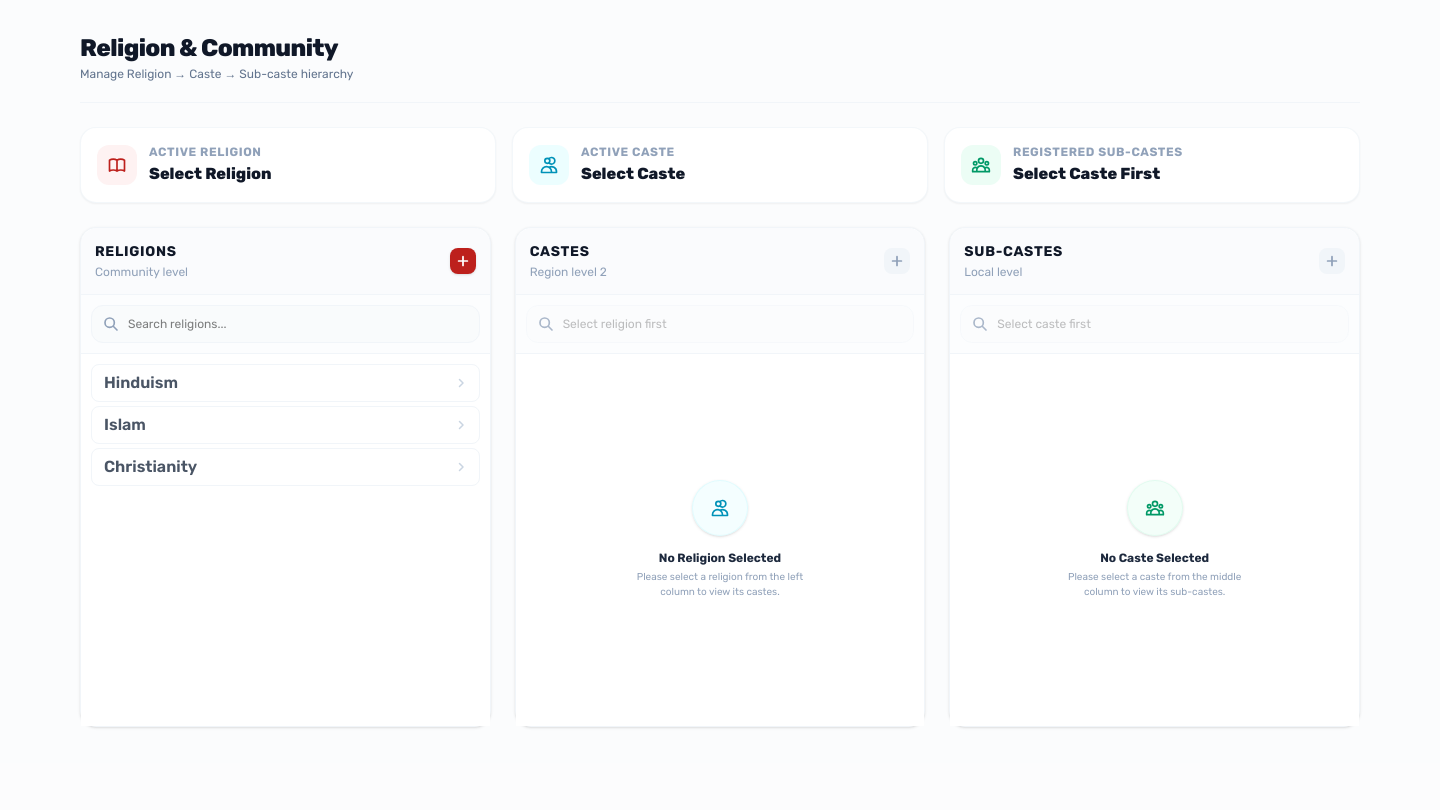
Test: ReligionManagement Component › Modals › should show "Saving..." state when mutation is pending
What coordinates should you click on to do the following:
click the button titled "Add New Religion"
I would click on:
 (463, 261)
Its box is [450,248,476,274].
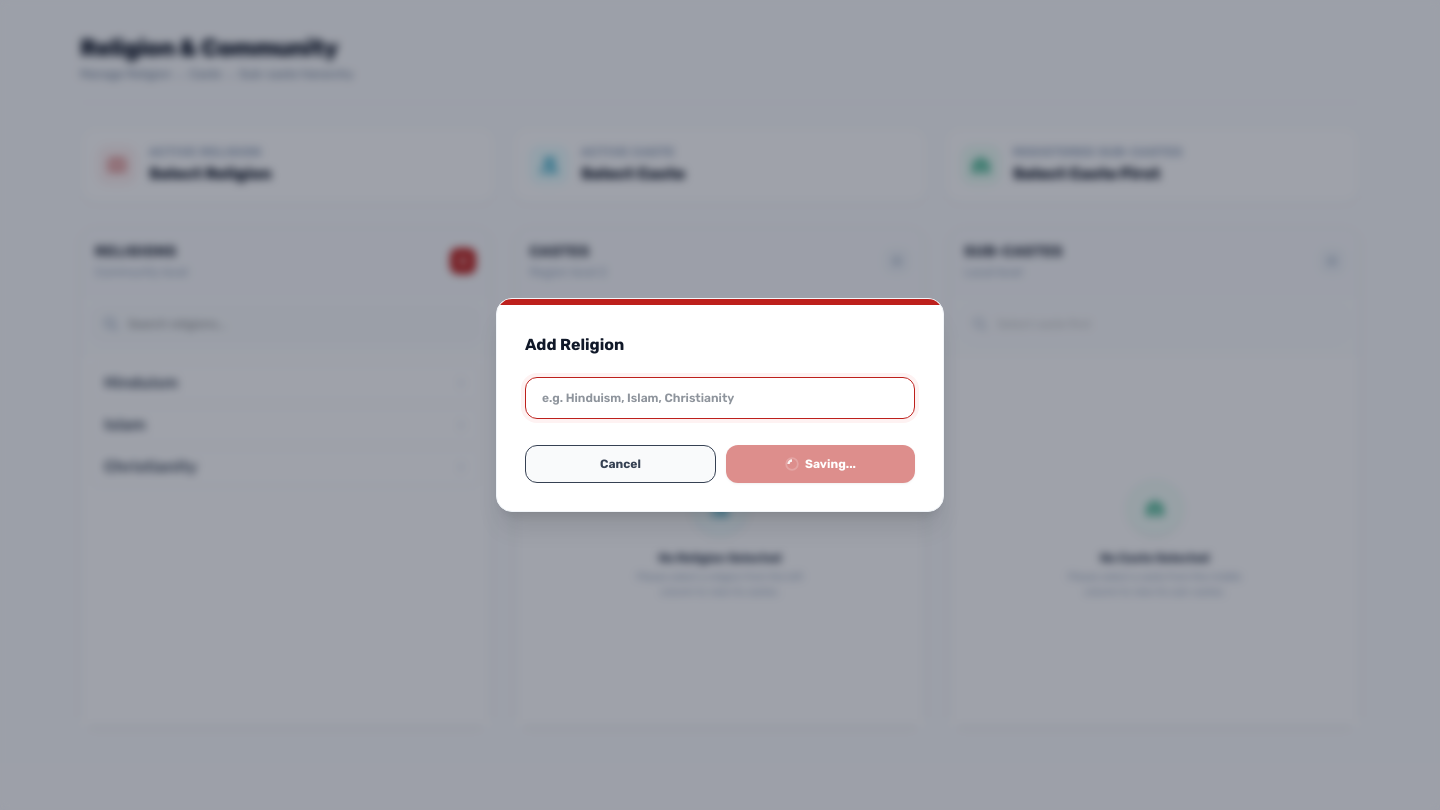
Now the button "Saving..." is shown, box [726,445,915,483]
